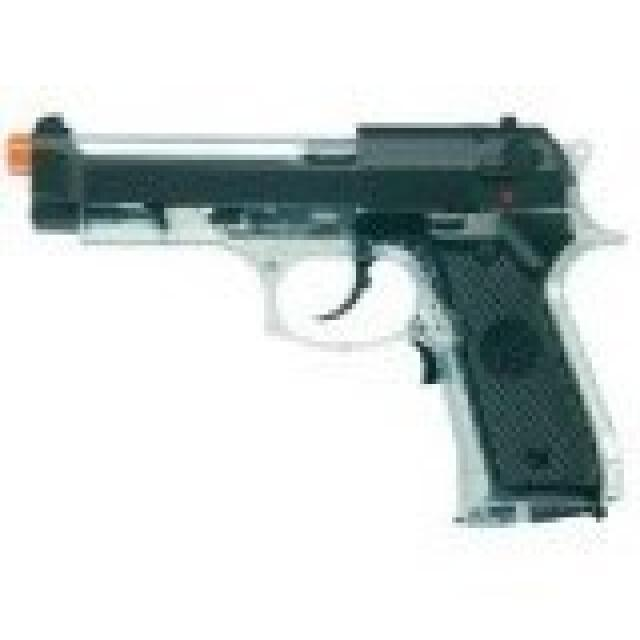Gun: (7, 81, 635, 552)
